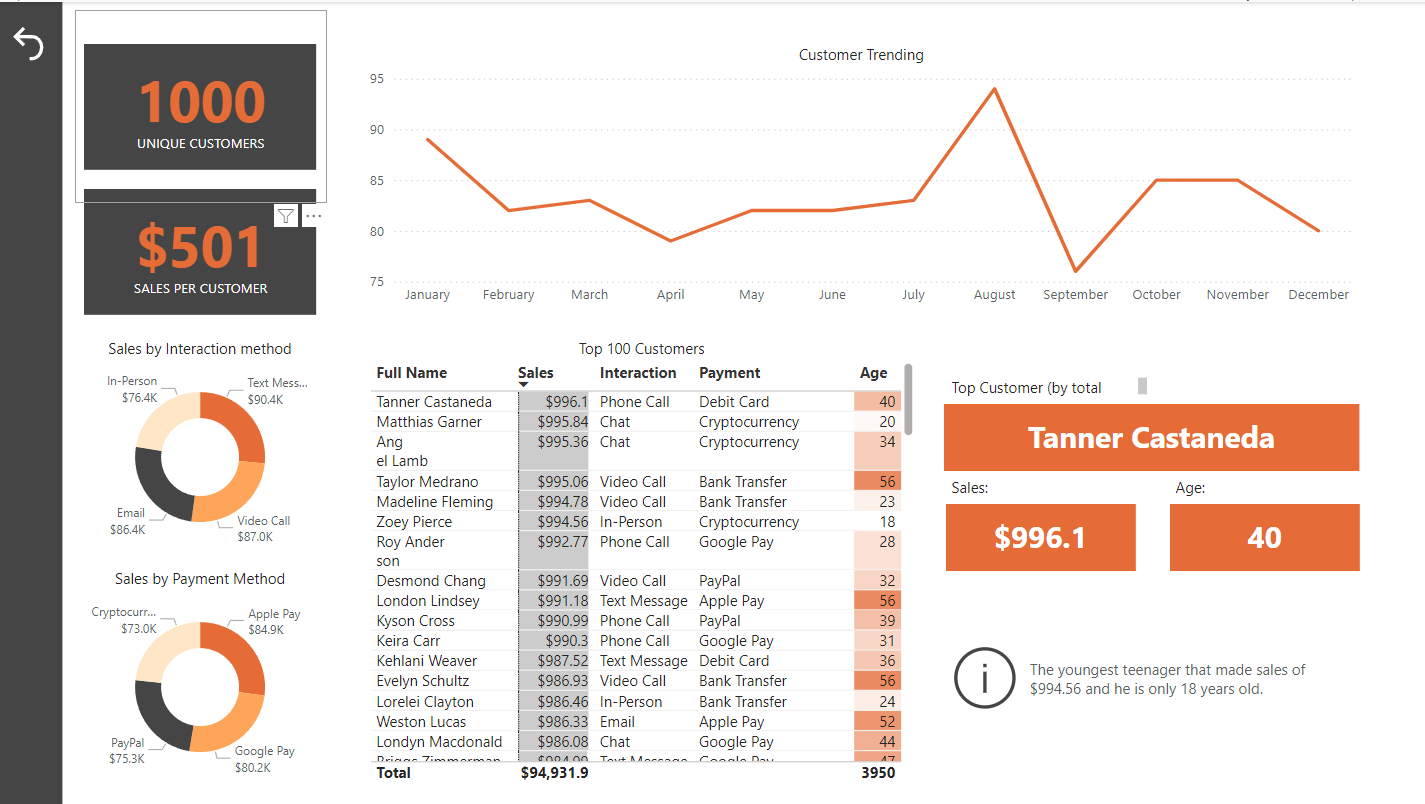

What the dashboard file says about the page in this screenshot:
{"tool":"powerbi","page":{"name":"Customer Detail","canvas":[1280,720],"ordinal":2},"visuals":[{"type":"shape","box":[0,0,55.9,720.3],"z":0},{"type":"lineChart","title":"Customer Trending","fields":{"Category":["dim_date.full_date.Variation.Date Hierarchy.Month","dim_date.full_date.Variation.Date Hierarchy.Day"],"Y":["Meausre Table.Total Customers"]},"box":[326.4,37.2,890.9,242.8],"z":1000},{"type":"shape","box":[75.5,37.2,207.9,112.7],"z":2000},{"type":"shape","box":[75.5,167.3,207.9,112.7],"z":3000},{"type":"card","fields":{"Values":["Meausre Table.Total Customers"]},"box":[67.4,7,225.3,173.1],"z":4000},{"type":"card","fields":{"Values":["Meausre Table.Sales Per Customer"]},"box":[67.4,137.1,225.3,173.1],"z":5000},{"type":"donutChart","title":"Sales by Interaction method","fields":{"Category":["dim_interaction_type.type_name"],"Y":["Meausre Table.Total Sales"]},"box":[75.5,300.8,207.9,196.3],"z":6000},{"type":"donutChart","title":"Sales by Payment Method","fields":{"Y":["Meausre Table.Total Sales"],"Category":["dim_payment_method.method_name"]},"box":[75.5,506.4,207.9,196.3],"z":7000},{"type":"tableEx","title":"Top 100 Customers","fields":{"Values":["dim_customer.full name","Meausre Table.Total Sales","dim_interaction_type.type_name","dim_payment_method.method_name","Sum(dim_customer.Age)"]},"box":[326.4,300.8,497.1,401.9],"z":8000},{"type":"card","fields":{"Values":["Min(dim_customer.full name)"]},"box":[845.6,360.1,371.7,60.4],"z":9000},{"type":"textbox","box":[846.8,331,184.7,29],"z":10000},{"type":"card","fields":{"Values":["Meausre Table.Total Sales"]},"box":[846.8,449.7,169.6,60.4],"z":11000},{"type":"card","fields":{"Values":["Sum(dim_customer.Age)"]},"box":[1047.7,449.7,169.6,60.4],"z":12000},{"type":"textbox","box":[846.8,420.5,169.6,29],"z":13000},{"type":"textbox","box":[1047.7,420.5,169.6,29],"z":14000},{"type":"actionButton","box":[846.8,570.3,370.5,69.7],"z":15000},{"type":"actionButton","box":[5,17.1,45.4,40.3],"z":16000}]}

Visuals, with their boxes on the page's 1280x720 design canvas (x1, y1, x2, y2). These are canvas units, not pixel positions in the 1425x804 screenshot, which may show the page scaled, cropped or inside an application window:
shape: left=0, top=0, right=56, bottom=720
"Customer Trending" lineChart: left=326, top=37, right=1217, bottom=280
shape: left=76, top=37, right=283, bottom=150
shape: left=76, top=167, right=283, bottom=280
card - Meausre Table.Total Customers: left=67, top=7, right=293, bottom=180
card - Meausre Table.Sales Per Customer: left=67, top=137, right=293, bottom=310
"Sales by Interaction method" donutChart: left=76, top=301, right=283, bottom=497
"Sales by Payment Method" donutChart: left=76, top=506, right=283, bottom=703
"Top 100 Customers" tableEx: left=326, top=301, right=824, bottom=703
card - Min(dim_customer.full name): left=846, top=360, right=1217, bottom=420
textbox: left=847, top=331, right=1032, bottom=360
card - Meausre Table.Total Sales: left=847, top=450, right=1016, bottom=510
card - Sum(dim_customer.Age): left=1048, top=450, right=1217, bottom=510
textbox: left=847, top=420, right=1016, bottom=450
textbox: left=1048, top=420, right=1217, bottom=450
actionButton: left=847, top=570, right=1217, bottom=640
actionButton: left=5, top=17, right=50, bottom=57
